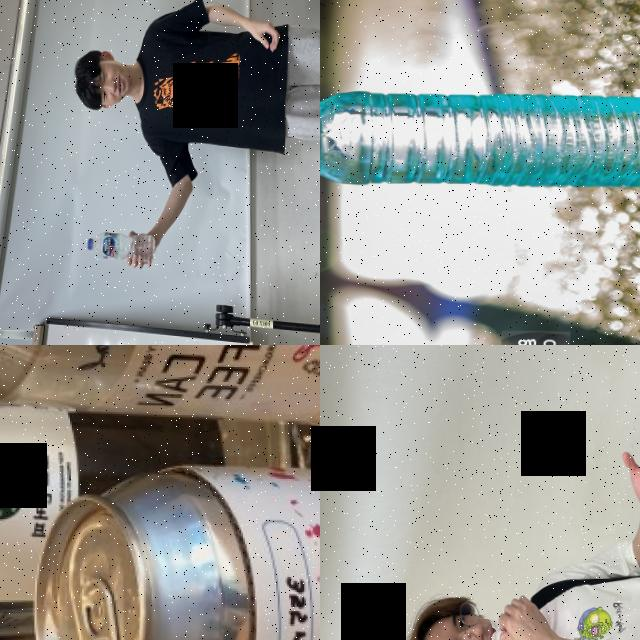bottle: (320, 78, 640, 190), (86, 228, 156, 264)
can: (27, 456, 320, 640), (0, 345, 320, 428)
